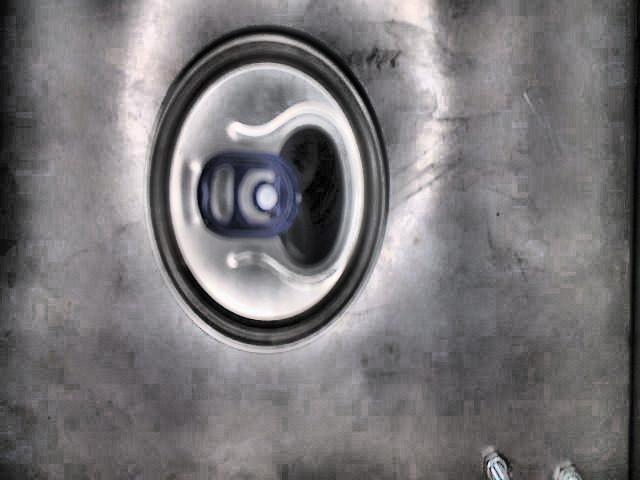Bottles: (146, 29, 391, 355)
